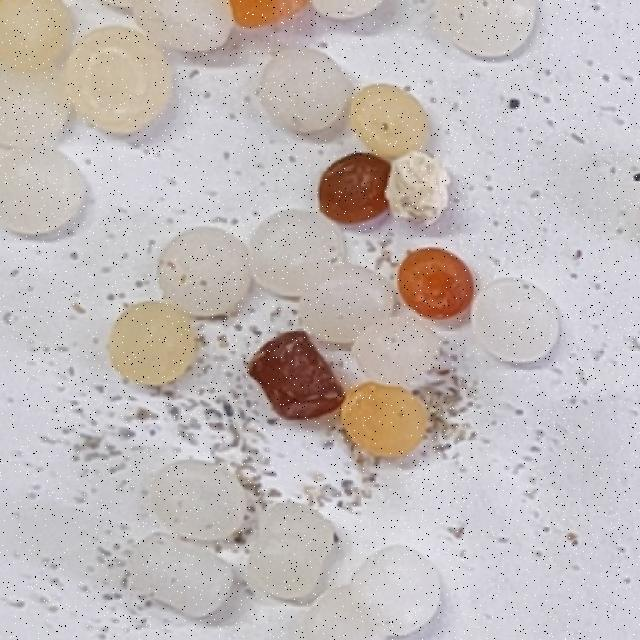beads: (45, 5, 190, 151), (141, 209, 269, 336), (456, 263, 576, 382), (244, 30, 362, 149), (235, 492, 344, 611), (290, 248, 406, 359), (119, 526, 242, 630), (329, 365, 441, 474), (339, 68, 442, 174), (344, 298, 450, 400), (246, 206, 351, 304), (387, 236, 488, 334), (145, 458, 250, 544), (106, 300, 199, 389), (0, 150, 84, 235), (379, 147, 461, 231), (437, 0, 539, 59), (317, 151, 392, 226), (0, 66, 69, 147)
fragments: (240, 323, 350, 440)
